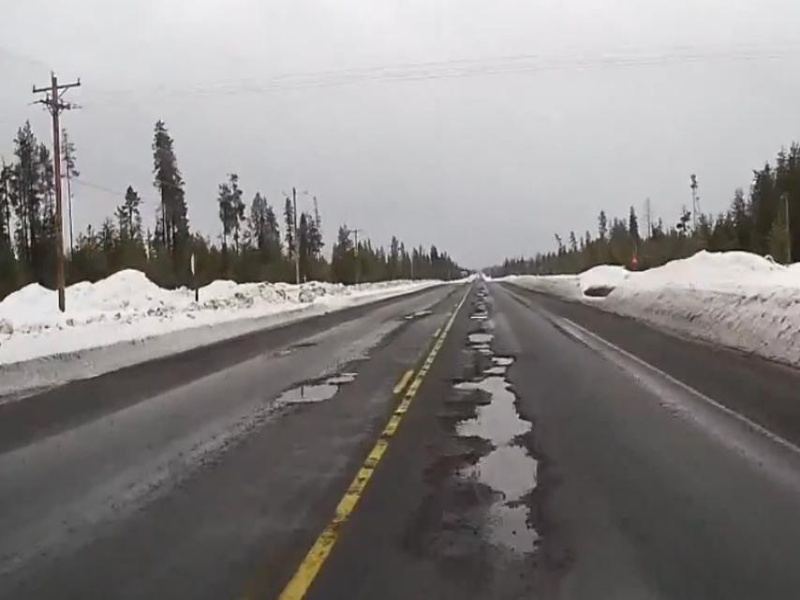pothole: (465, 440, 540, 499), (480, 499, 546, 560), (453, 398, 536, 443), (273, 379, 346, 407), (450, 373, 518, 397), (325, 367, 357, 383), (463, 328, 493, 345), (487, 350, 516, 365), (468, 342, 491, 353), (479, 367, 513, 374)
